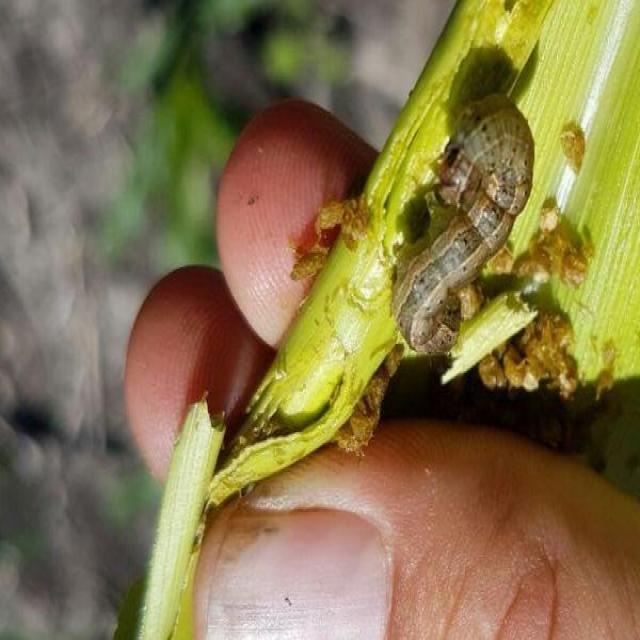army worm: (379, 80, 538, 367)
